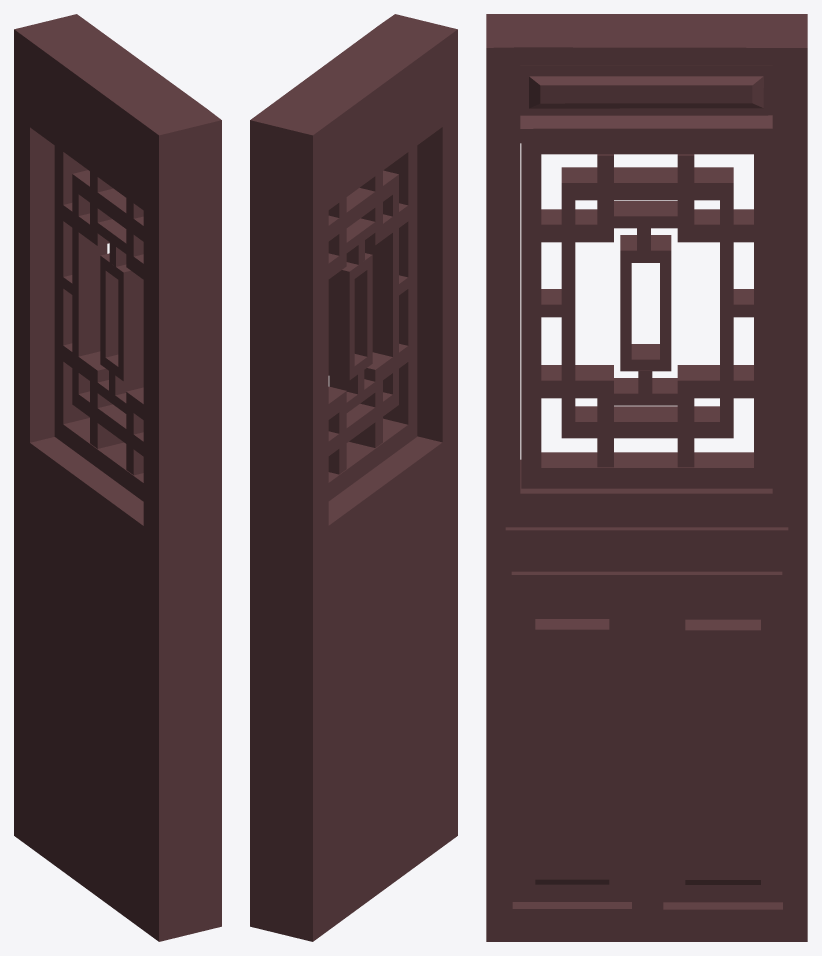
File: RDoor_Anim.fbx
3 views of the same model, side by side, from view 1: azimuth 30°, elevation 25°; view 2: azimuth 150°, elevation 25°; view 3: azimuth 270°, elevation 25° (orthographic). The views are drawn at different scales.
Visible parts, largest first — view 1: Cube.076; view 2: Cube.076; view 3: Cube.076.
Part boxes in pixels (box(x1,y1,x2,y2)): Cube.076: box(14, 14, 221, 941); Cube.076: box(250, 14, 457, 941); Cube.076: box(486, 14, 807, 941).
Bounding box in the file's own units: 26.09 × 295 × 96.21.
